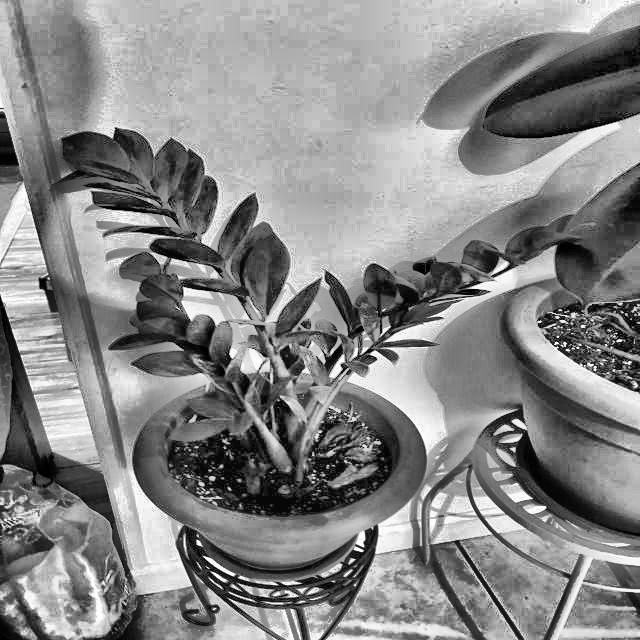plants: (67, 128, 386, 480)
